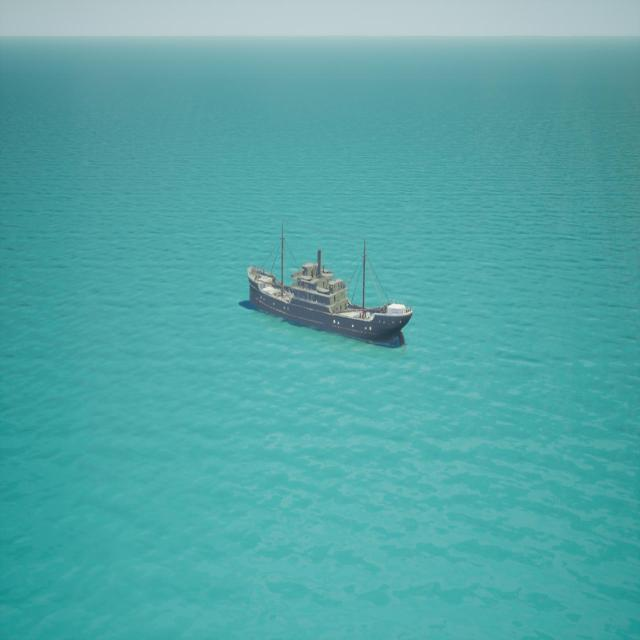fishing ship: (245, 231, 415, 347)
